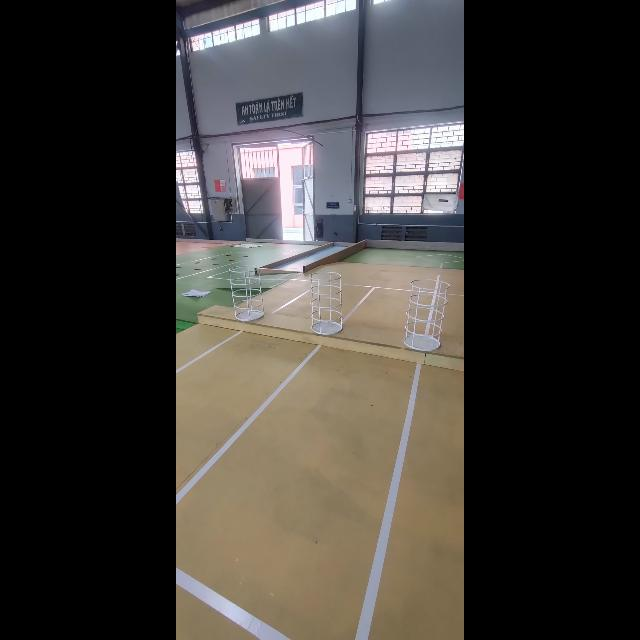S: (404, 278, 450, 352), (309, 272, 343, 334), (229, 266, 265, 322)
